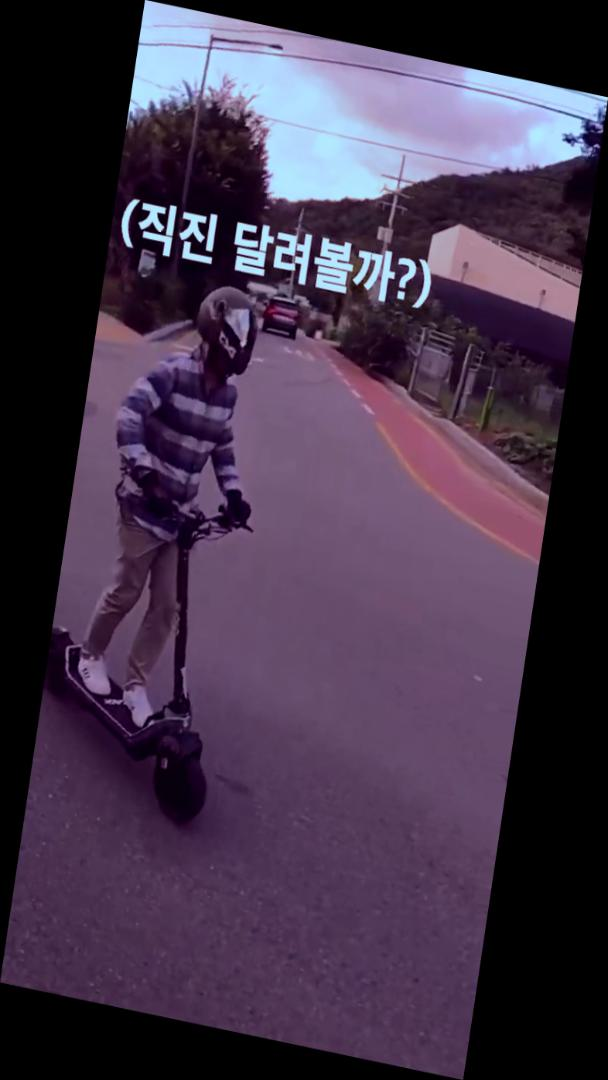helmet: (28, 259, 291, 833)
